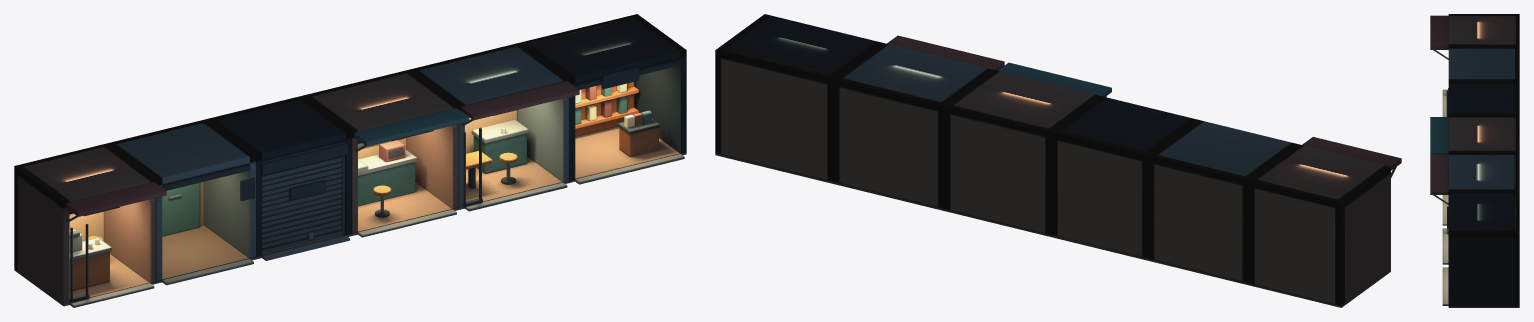
Rendered from market32.glb.
3 views of the same model, side by side, from view 1: azimuth 30°, elevation 25°; view 2: azimuth 150°, elevation 25°; view 3: azimuth 270°, elevation 25° (orthographic). The views are drawn at different scales.
Visible parts, largest first — view 1: MARKET32_EXACT_BAKED_MESH.001; view 2: MARKET32_EXACT_BAKED_MESH.001; view 3: MARKET32_EXACT_BAKED_MESH.001.
Boxes of the visible parts, x1=… form: MARKET32_EXACT_BAKED_MESH.001: x1=14, y1=14, x2=686, y2=307; MARKET32_EXACT_BAKED_MESH.001: x1=715, y1=14, x2=1401, y2=307; MARKET32_EXACT_BAKED_MESH.001: x1=1430, y1=14, x2=1519, y2=307.
Bounding box in the file's own units: 17.5 × 2.8 × 3.02.
1 material, 1 textured.
